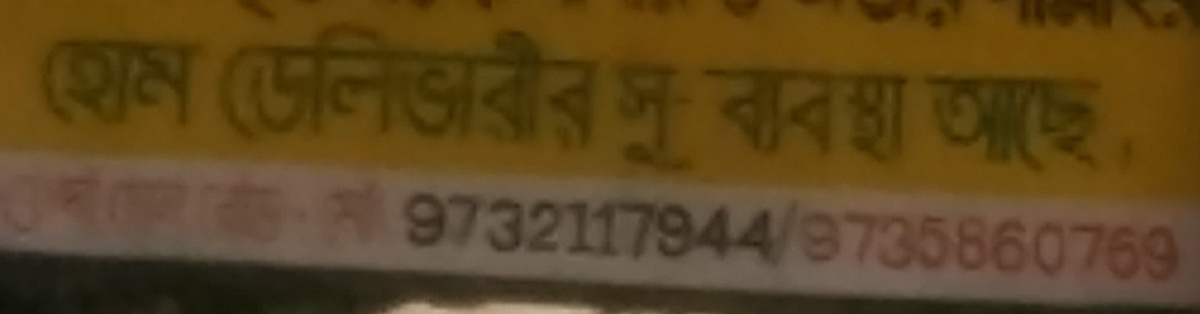text: (241, 20, 256, 158), (257, 20, 272, 158), (273, 20, 288, 158), (289, 20, 304, 158), (305, 20, 320, 158), (321, 20, 336, 158), (337, 20, 352, 158), (353, 20, 368, 158), (369, 20, 384, 158), (385, 20, 400, 158), (401, 20, 416, 158), (417, 20, 432, 158), (433, 20, 448, 158), (449, 20, 464, 158), (465, 20, 480, 158), (481, 20, 496, 158), (497, 20, 512, 158), (513, 20, 528, 158), (529, 20, 544, 158), (545, 20, 560, 158), (561, 20, 576, 158), (577, 20, 592, 158), (593, 20, 606, 158), (625, 62, 640, 178), (641, 62, 656, 178), (657, 62, 672, 178), (673, 62, 688, 178), (1089, 75, 1105, 181), (228, 20, 240, 158), (929, 75, 944, 181), (945, 75, 960, 181), (961, 75, 976, 181), (977, 75, 992, 181), (993, 75, 1008, 181), (1009, 75, 1024, 181), (1025, 75, 1040, 181), (1041, 75, 1056, 181), (1057, 75, 1072, 181), (1073, 75, 1088, 181), (705, 63, 720, 168), (721, 63, 736, 168), (737, 63, 752, 168), (753, 63, 768, 168), (769, 63, 784, 168), (785, 63, 800, 168), (801, 63, 816, 168), (817, 63, 832, 168), (833, 63, 848, 168), (849, 63, 864, 168), (865, 63, 880, 168), (881, 63, 896, 168), (897, 63, 912, 168), (49, 34, 64, 132), (65, 34, 80, 132), (81, 34, 96, 132), (97, 34, 112, 132), (113, 34, 128, 132), (129, 34, 144, 132), (145, 34, 160, 132), (161, 34, 176, 132), (177, 34, 192, 132), (193, 34, 208, 132), (17, 155, 32, 251), (33, 155, 48, 251), (49, 155, 64, 251), (65, 155, 80, 251), (81, 155, 96, 251), (97, 155, 112, 251), (113, 155, 128, 251), (129, 155, 144, 251), (145, 155, 160, 251), (161, 155, 176, 251), (177, 155, 192, 251), (193, 155, 208, 251), (209, 155, 224, 251), (225, 155, 240, 251), (241, 155, 256, 251), (257, 155, 272, 251), (273, 155, 288, 251), (289, 155, 304, 251), (305, 155, 320, 251), (321, 155, 336, 251), (337, 155, 352, 251), (353, 155, 368, 251), (369, 155, 384, 251), (689, 62, 701, 178), (401, 183, 416, 271), (417, 183, 432, 271), (433, 183, 448, 271), (449, 183, 464, 271), (465, 183, 480, 271), (481, 183, 496, 271), (497, 183, 512, 271), (513, 183, 528, 271), (529, 183, 544, 271), (545, 183, 560, 271), (561, 183, 576, 271), (577, 183, 592, 271), (593, 183, 608, 271), (609, 183, 624, 271), (625, 183, 640, 271), (641, 183, 656, 271), (657, 183, 672, 271), (673, 183, 688, 271), (689, 183, 704, 271), (705, 183, 720, 271), (721, 183, 736, 271), (737, 183, 752, 271), (753, 183, 768, 271), (3, 155, 16, 251), (801, 213, 816, 284), (817, 213, 832, 284), (833, 213, 848, 284), (849, 213, 864, 284), (865, 213, 880, 284), (881, 213, 896, 284), (897, 213, 912, 284), (913, 213, 928, 284), (929, 213, 944, 284), (945, 213, 960, 284), (961, 213, 976, 284), (977, 213, 992, 284), (993, 213, 1008, 284), (1009, 213, 1024, 284), (1025, 213, 1040, 284), (1041, 213, 1056, 284), (1057, 213, 1072, 284), (1073, 213, 1088, 284), (1089, 213, 1104, 284), (1105, 213, 1120, 284), (1121, 213, 1136, 284), (1137, 213, 1152, 284), (1153, 213, 1168, 284), (615, 62, 624, 178), (1169, 213, 1183, 284), (40, 34, 48, 132), (792, 213, 800, 284), (1009, 2, 1024, 39), (1025, 2, 1040, 39), (1041, 2, 1056, 39), (1057, 2, 1072, 39), (1073, 2, 1088, 39), (1089, 2, 1104, 39), (1105, 2, 1120, 39), (1121, 2, 1136, 39), (1137, 2, 1152, 39), (1153, 2, 1168, 39), (1169, 2, 1184, 39), (769, 183, 775, 271), (801, 1, 816, 36), (817, 1, 832, 36), (833, 1, 848, 36), (849, 1, 864, 36), (865, 1, 880, 36), (881, 1, 896, 36), (897, 1, 912, 36), (913, 1, 928, 36), (929, 1, 944, 36), (945, 1, 960, 36), (1185, 2, 1199, 39), (913, 63, 917, 168), (961, 1, 973, 36), (241, 1, 256, 28), (257, 1, 272, 28), (273, 1, 288, 28), (1123, 135, 1136, 166), (385, 155, 389, 251), (227, 1, 240, 28), (609, 1, 624, 20), (625, 1, 640, 20), (641, 1, 656, 20), (657, 1, 672, 20), (673, 1, 688, 20), (689, 1, 704, 20), (705, 1, 720, 20), (721, 1, 736, 20), (737, 1, 752, 20), (753, 1, 765, 20), (926, 75, 928, 181), (702, 63, 704, 168), (481, 1, 496, 12), (497, 1, 512, 12), (401, 1, 416, 11), (417, 1, 432, 11), (471, 1, 480, 12), (433, 1, 440, 11), (605, 1, 608, 20), (1007, 2, 1008, 39), (289, 1, 290, 28), (513, 1, 515, 12)
